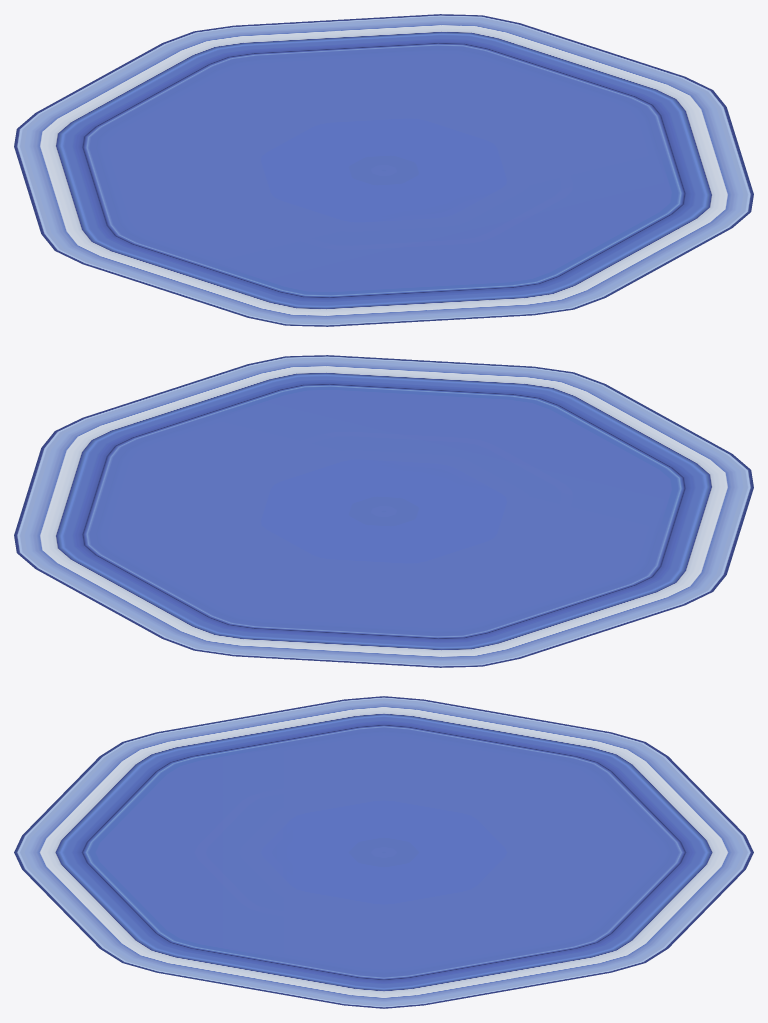
File: my_millenniumlounge_01_carpet_02.glb
3 renders of one model, top to bottom at view 1: azimuth 30°, elevation 25°; view 2: azimuth 150°, elevation 25°; view 3: azimuth 270°, elevation 25°, orthographic. The views are drawn at different scales.
Visible parts, largest first — view 1: my_millenniumlounge_01_carpet_02; view 2: my_millenniumlounge_01_carpet_02; view 3: my_millenniumlounge_01_carpet_02.
Boxes of the visible parts, box(x1,y1,x2,y2) form: my_millenniumlounge_01_carpet_02: box(14, 14, 753, 326); my_millenniumlounge_01_carpet_02: box(14, 355, 753, 667); my_millenniumlounge_01_carpet_02: box(14, 696, 753, 1008).
Bounding box in the file's own units: 0.0235 × 2.33e-12 × 0.0235.
Materials: 1 (1 with a texture image).
